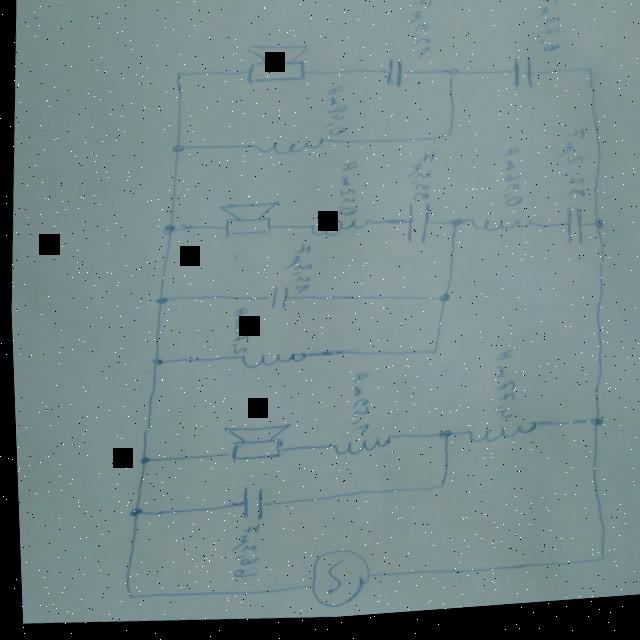capacitor: (404, 206, 430, 251), (561, 213, 586, 255), (236, 487, 262, 526), (510, 60, 537, 97), (383, 61, 404, 95), (267, 287, 288, 315)
inductor: (458, 423, 536, 454), (250, 135, 326, 163), (325, 436, 391, 464), (464, 216, 534, 242), (235, 352, 308, 376), (304, 220, 370, 245)
junction: (585, 221, 605, 241), (121, 505, 143, 522), (443, 221, 464, 236), (433, 296, 452, 312), (442, 71, 461, 87), (159, 223, 176, 240), (433, 432, 451, 447), (168, 143, 185, 158), (584, 423, 602, 437), (132, 454, 150, 468), (150, 296, 168, 310), (428, 484, 446, 497), (170, 68, 186, 82), (147, 357, 164, 370), (423, 350, 438, 364), (439, 135, 455, 147), (121, 593, 136, 604), (592, 562, 605, 572), (580, 74, 594, 83)
source: (303, 550, 369, 616)
text: (551, 133, 588, 209), (223, 523, 261, 584), (487, 355, 517, 428), (403, 0, 436, 65), (532, 0, 564, 62), (402, 153, 437, 207), (497, 151, 526, 216), (279, 246, 314, 299), (345, 375, 371, 442), (320, 88, 350, 142), (332, 165, 359, 221), (226, 308, 250, 358)
